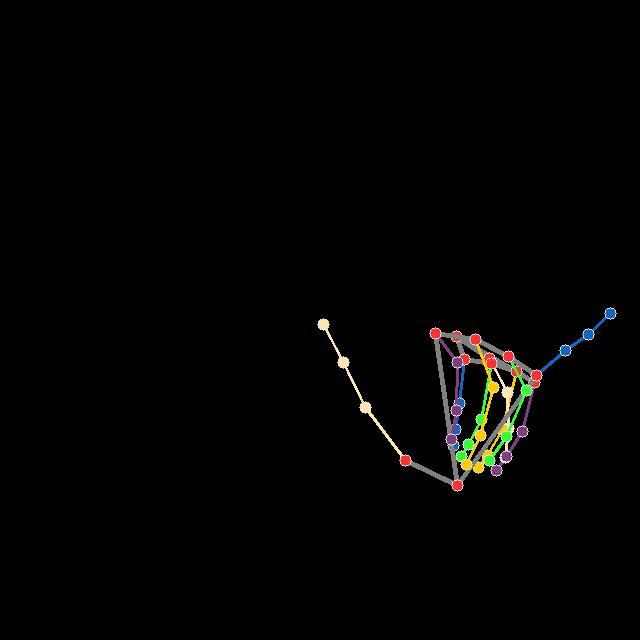skr: (315, 304, 617, 492)
